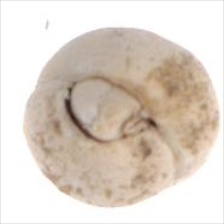L3: (60, 73, 162, 143)
L4: (23, 28, 219, 207)
